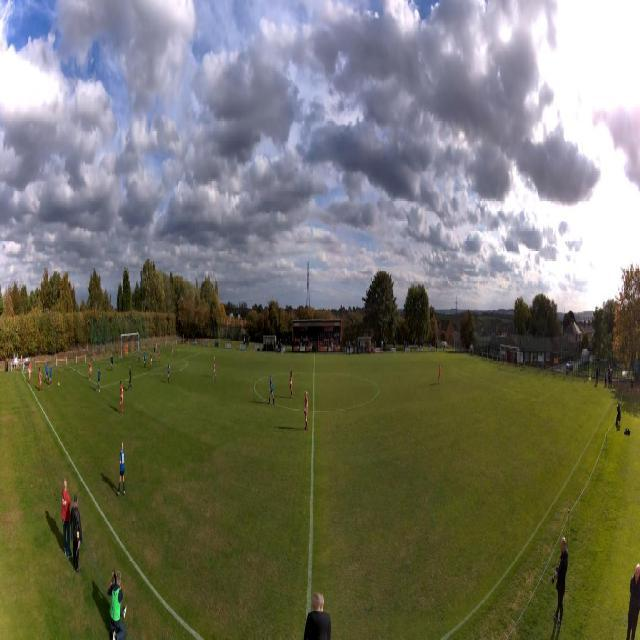ball: (58, 382, 60, 386)
player: (117, 442, 125, 498), (268, 375, 275, 405), (127, 365, 133, 392), (119, 381, 124, 413), (304, 392, 308, 431), (97, 366, 102, 393), (48, 365, 54, 387), (289, 370, 293, 399), (39, 367, 43, 392), (28, 362, 32, 386), (212, 356, 216, 378), (437, 362, 441, 384), (45, 363, 49, 384), (89, 361, 93, 380), (110, 353, 114, 370), (171, 344, 175, 358), (138, 345, 141, 363), (143, 350, 146, 368), (158, 346, 161, 364), (168, 358, 170, 384), (150, 351, 153, 368), (125, 343, 128, 358), (154, 346, 156, 358)
